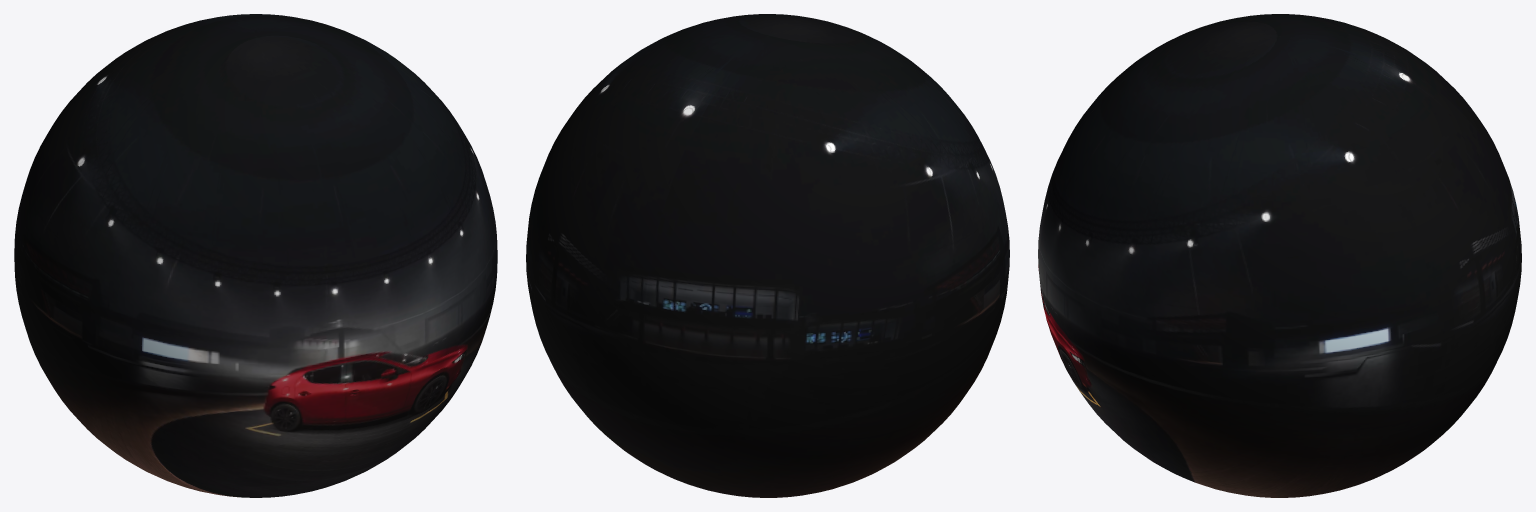
File: 360video_skybox.fbx
3 renders of one model, left to right at view 1: azimuth 30°, elevation 25°; view 2: azimuth 150°, elevation 25°; view 3: azimuth 270°, elevation 25°, orthographic.
Parts seen in each view (by area): view 1: skybox; view 2: skybox; view 3: skybox.
Part boxes in pixels (x1=…): skybox: x1=14, y1=14, x2=497, y2=497; skybox: x1=526, y1=14, x2=1009, y2=497; skybox: x1=1038, y1=14, x2=1521, y2=497.
Size of the model in its own units: 948 by 949 by 949.
Materials: 1 (1 with a texture image).
